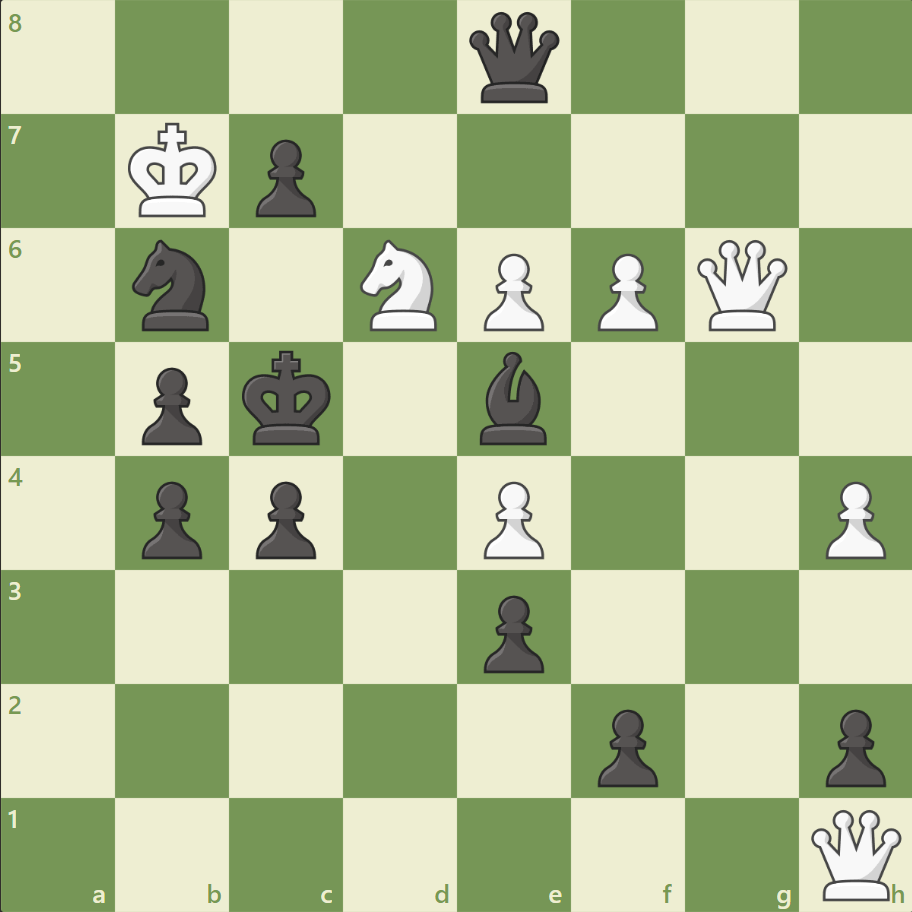K: (124, 117, 224, 225)
N: (351, 234, 449, 337)
P: (474, 246, 549, 337), (474, 473, 549, 564), (588, 246, 662, 337), (815, 473, 889, 564)
Q: (691, 236, 790, 335), (805, 804, 904, 903)
b: (471, 347, 555, 449)
k: (238, 344, 338, 452)
n: (124, 234, 222, 337)
p: (247, 132, 322, 223), (133, 359, 208, 450), (133, 473, 208, 564), (247, 473, 322, 564), (474, 586, 549, 677), (588, 700, 662, 791), (815, 700, 889, 791)
q: (464, 9, 563, 108)
